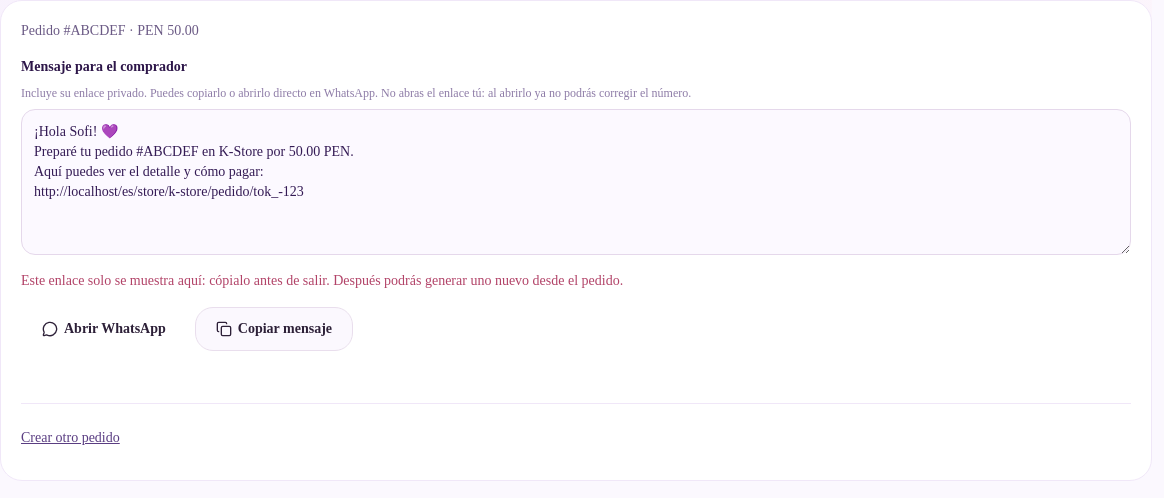
when the clipboard is unavailable it explains and keeps the text selectable
This screenshot has width=1164, height=498.
Click the button "Copiar mensaje" at {"x": 274, "y": 329}, box [195,307,353,351]
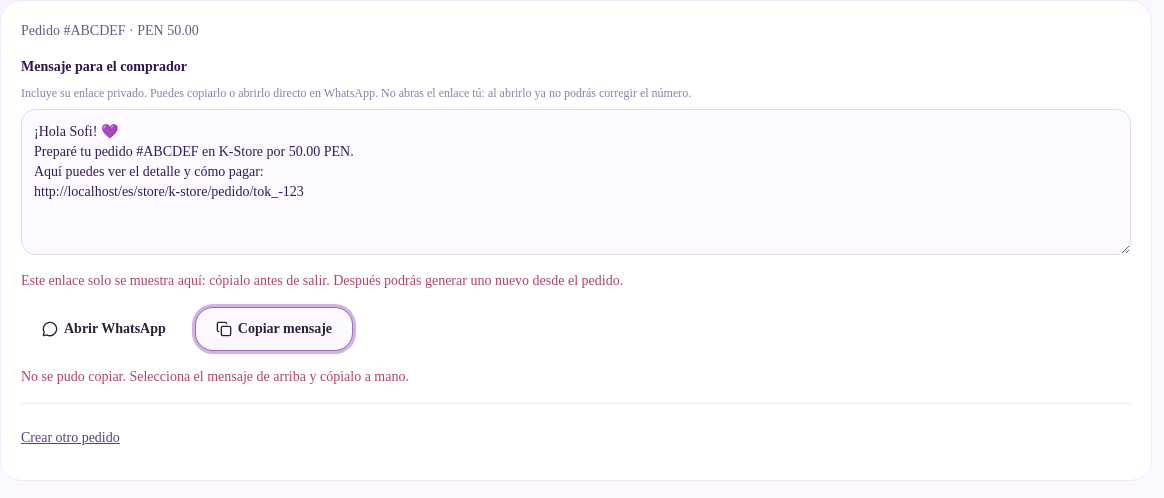
Now the text "No se pudo copiar. Selecciona el mensaje" is shown, box [21,369,409,384]
